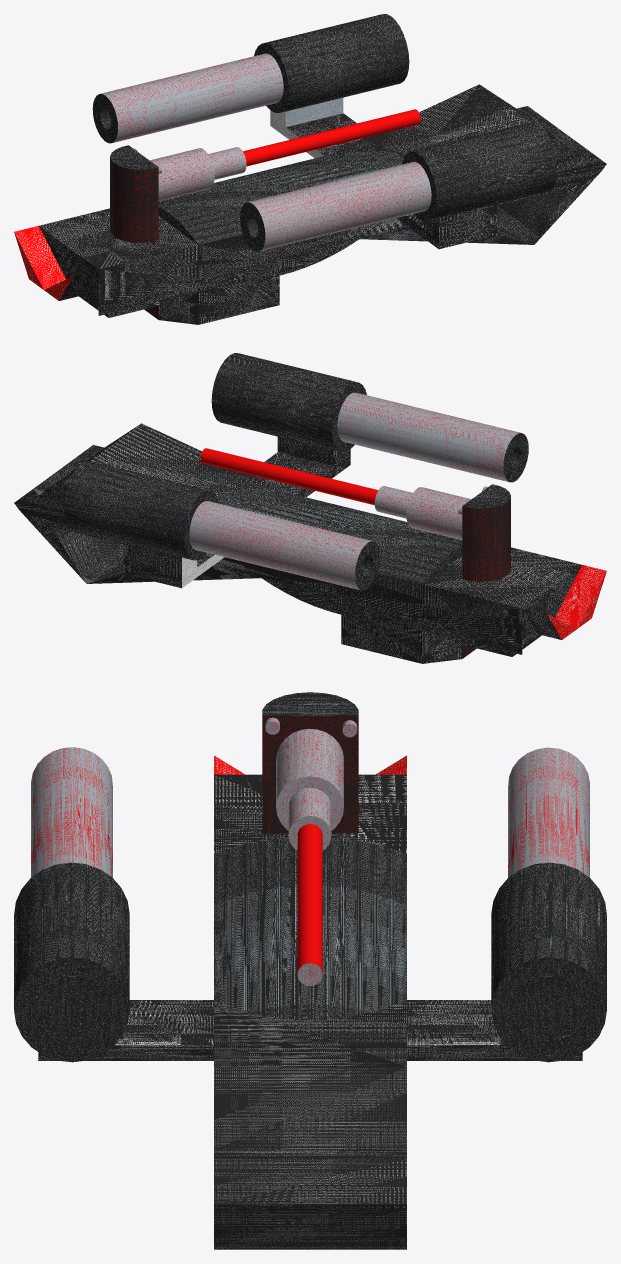
The model's file is spaceship.fbx.
3 views of the same model, one above another, from view 1: azimuth 30°, elevation 25°; view 2: azimuth 150°, elevation 25°; view 3: azimuth 270°, elevation 25° (orthographic). The views are drawn at different scales.
Parts seen in each view (by area): view 1: Model; view 2: Model; view 3: Model.
Boxes of the visible parts, left/top/right/bottom form: Model: left=14, top=14, right=606, bottom=324; Model: left=14, top=353, right=606, bottom=663; Model: left=14, top=692, right=606, bottom=1249.
Bounding box in the file's own units: 1896 × 551 × 1132.
